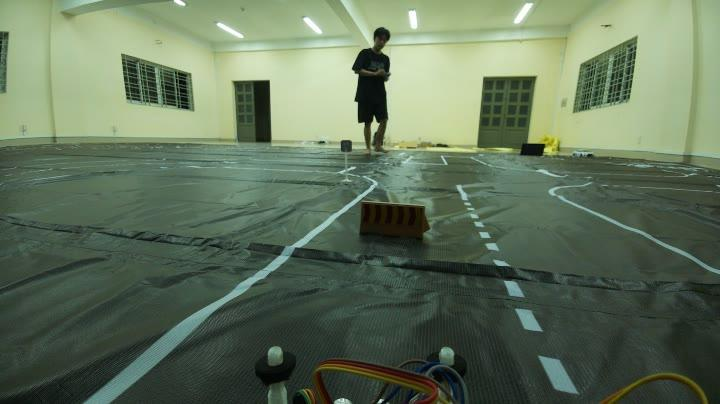roadblock: (355, 197, 436, 249)
